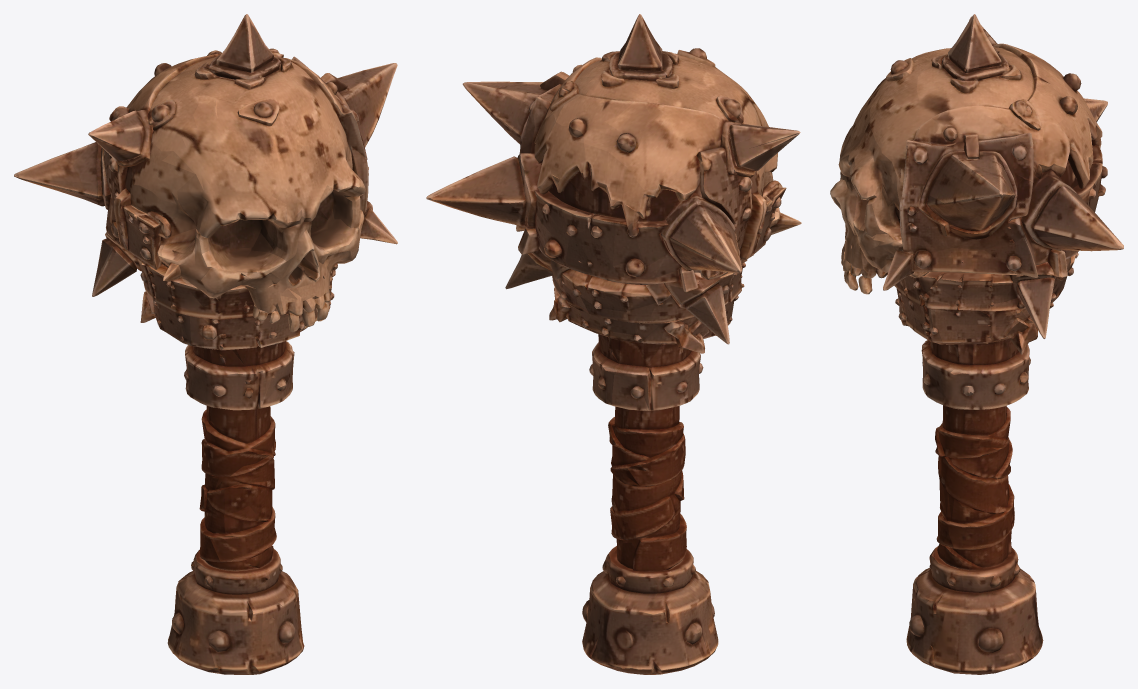
The model's file is mace.glb.
3 renders of one model, left to right at view 1: azimuth 30°, elevation 25°; view 2: azimuth 150°, elevation 25°; view 3: azimuth 270°, elevation 25°, orthographic.
Parts seen in each view (by area): view 1: Mesh_0; view 2: Mesh_0; view 3: Mesh_0.
Part boxes in pixels (x1,y1,x2,y2): Mesh_0: (14, 14, 397, 674); Mesh_0: (426, 14, 801, 674); Mesh_0: (830, 14, 1123, 674).
Size of the model in its own units: 1.03 by 1.9 by 0.7856.
1 material, 1 textured.
